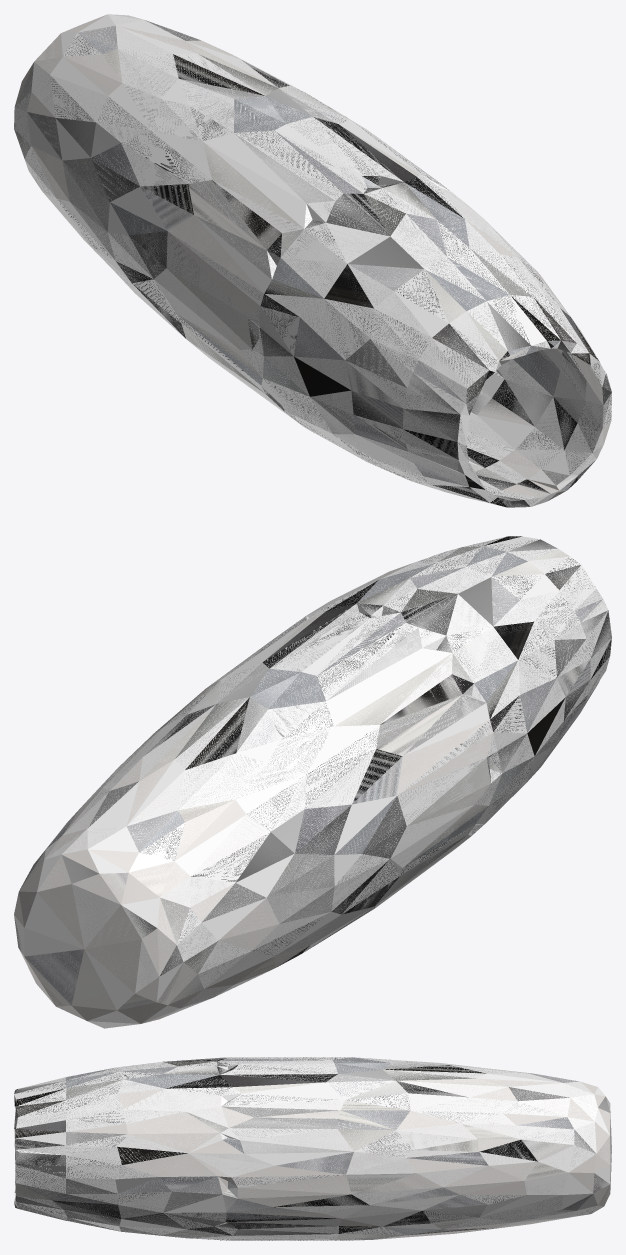
File: model_align.obj
3 views of the same model, one above another, from view 1: azimuth 30°, elevation 25°; view 2: azimuth 150°, elevation 25°; view 3: azimuth 270°, elevation 25° (orthographic). The views are drawn at different scales.
Size of the model in its own units: 0.079 by 0.079 by 0.2574.
Materials: 1 (1 with a texture image).
